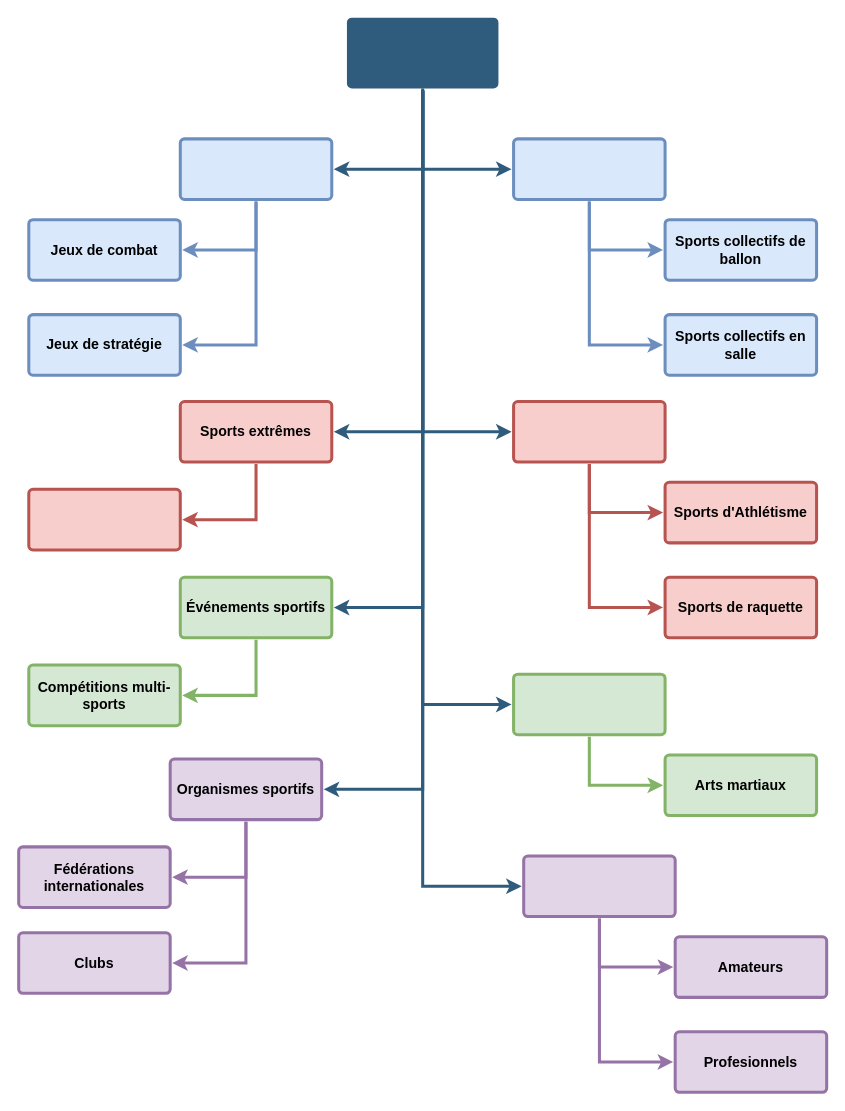
Some shapes in this 845 by 1111 pixel diagram are drawn without their labels. Here are the shapes that lost their labels. From the top down, the centre of each, then its label:
At (422,52): "Sport".
At (255,168): "E-sport".
At (589,168): "Sports d'équipe".
At (589,431): "Sports individuels".
At (104,519): "Sports de glisse".
At (589,704): "Sports de combat".
At (599,886): "Sportifs".
